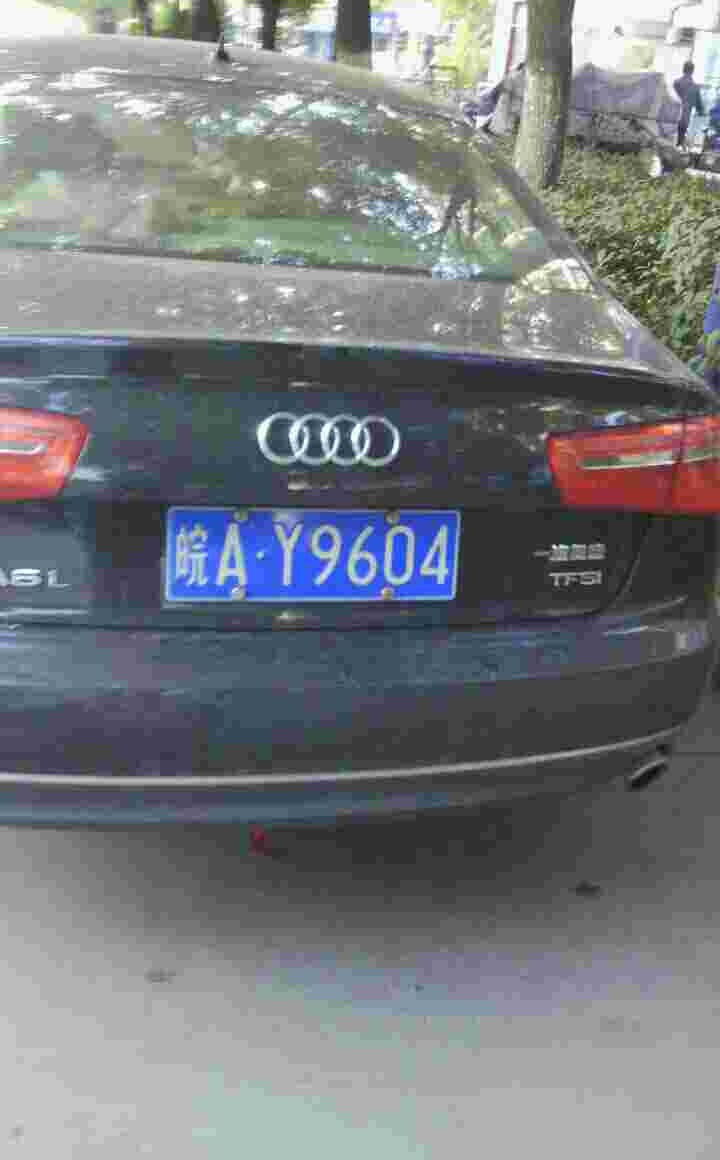license_plate: (169, 505, 456, 603)
